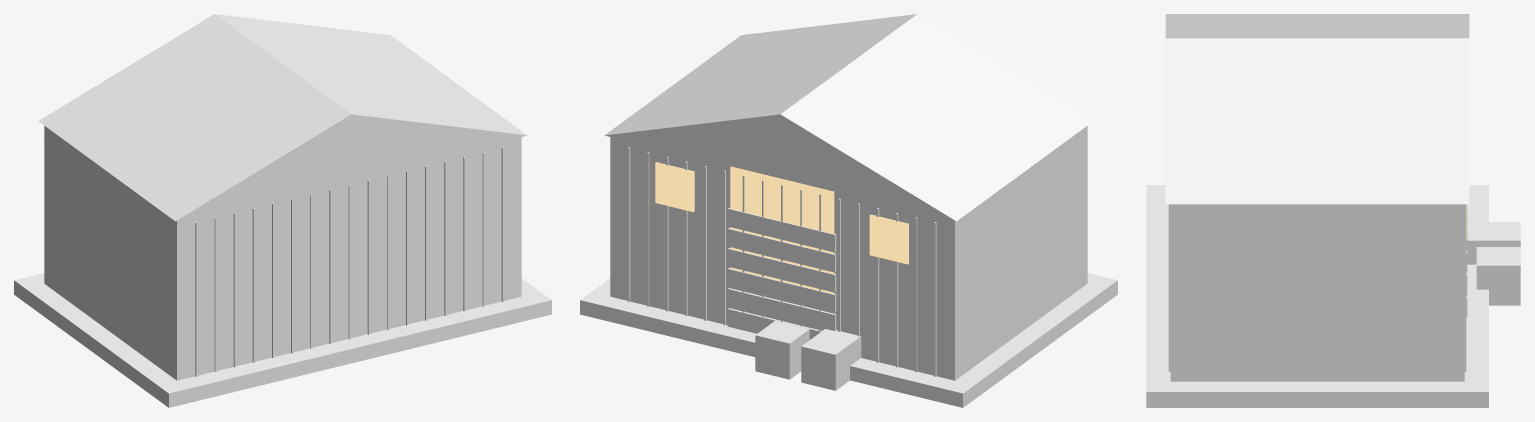
The model's file is SA-001_Archive_Warehouse.glb.
3 views of the same model, side by side, from view 1: azimuth 30°, elevation 25°; view 2: azimuth 150°, elevation 25°; view 3: azimuth 270°, elevation 25° (orthographic). The views are drawn at different scales.
Parts seen in each view (by area): view 1: Warehouse_Body, Warehouse_Roof, Building_Plinth.002, Corrug_Line_-1_-5; view 2: Warehouse_Roof, Warehouse_Body, Building_Plinth.002, Door_Cargo, Crates_Detail_1, Crates_Detail_0, Door_Slat_1, Door_Slat_4, Door_Slat_2, Door_Slat_5, Door_Slat_3, Side_Window_0 (+3 smaller); view 3: Warehouse_Roof, Warehouse_Body, Building_Plinth.002, Crates_Detail_1, Crates_Detail_0, Crates_Detail_2, Corrug_Line_-1_8, Corrug_Line_1_8.
Boxes of the visible parts, x1,y1,x2,y2 form: Warehouse_Body: (44,126,521,380); Warehouse_Roof: (38,14,527,221); Building_Plinth.002: (14,273,551,407); Corrug_Line_-1_-5: (252,208,255,362); Warehouse_Roof: (604,14,1093,221); Warehouse_Body: (610,126,1087,380); Building_Plinth.002: (580,273,1117,407); Door_Cargo: (730,166,834,293); Crates_Detail_1: (755,320,809,379); Crates_Detail_0: (801,335,855,390); Door_Slat_1: (727,288,836,330); Door_Slat_4: (727,228,836,272); Door_Slat_2: (727,268,836,312); Door_Slat_5: (727,208,836,252); Door_Slat_3: (727,248,836,292); Side_Window_0: (869,214,908,264); Warehouse_Roof: (1165,14,1469,204); Warehouse_Body: (1170,204,1464,381); Building_Plinth.002: (1146,185,1488,407); Crates_Detail_1: (1476,247,1520,305); Crates_Detail_0: (1476,222,1520,246); Crates_Detail_2: (1467,222,1486,264); Corrug_Line_-1_8: (1168,204,1170,371); Corrug_Line_1_8: (1464,204,1466,371).
Bounding box in the file's own units: 5 × 3 × 3.83.
